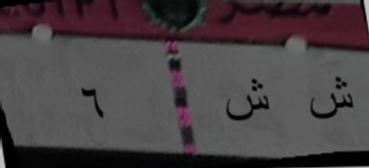6: (78, 74, 110, 129)
sheen: (222, 72, 271, 132), (305, 74, 357, 124)
